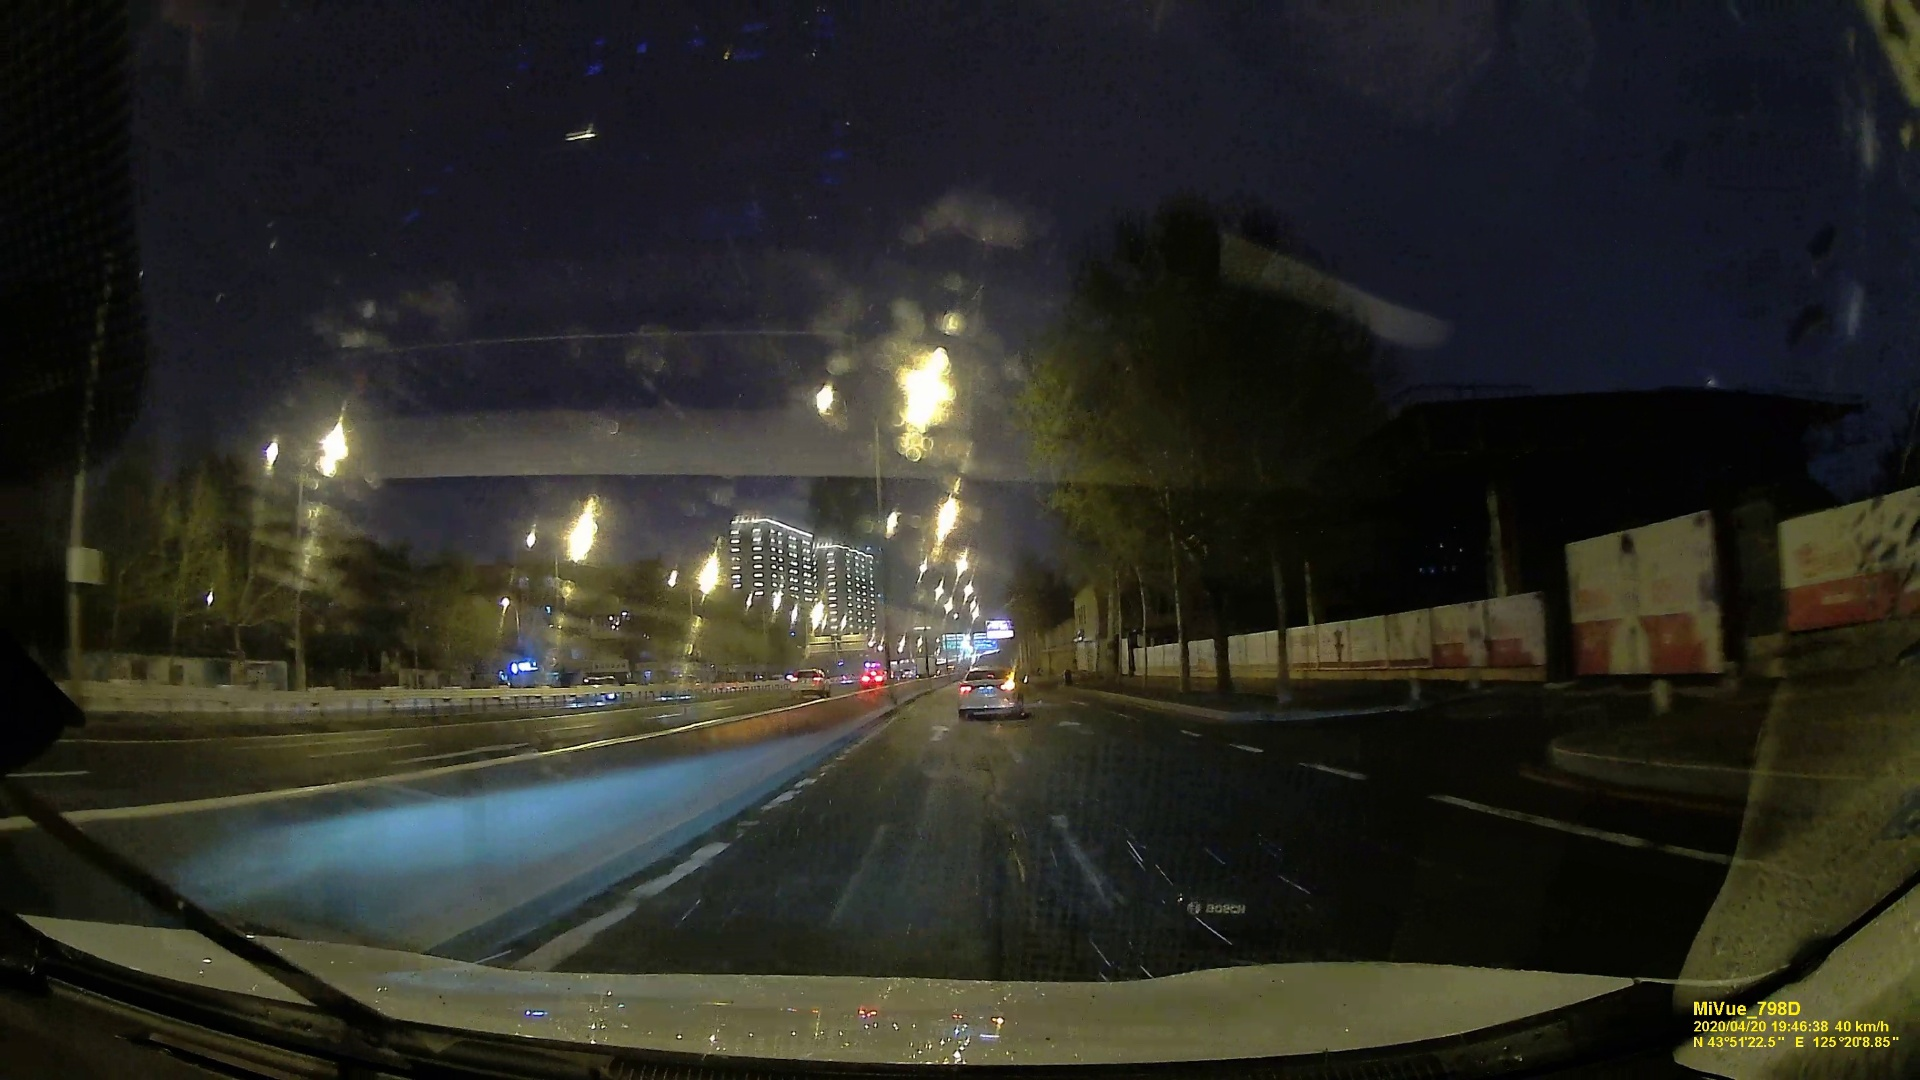vehicle: (957, 665, 1026, 717), (789, 669, 828, 698), (861, 671, 885, 687)
